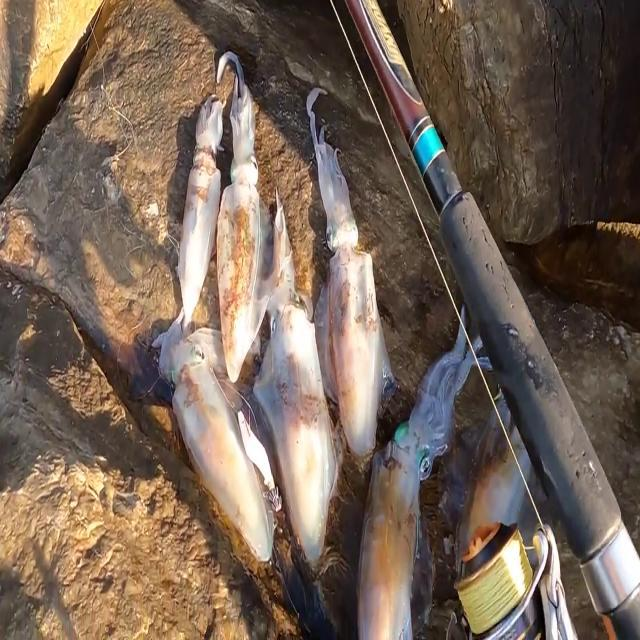squid: (358, 303, 480, 640), (252, 202, 338, 578), (312, 138, 396, 472), (159, 326, 276, 562), (216, 78, 277, 382), (176, 98, 224, 331)
